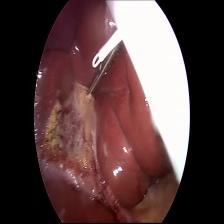Grasper: (83, 48, 121, 106)
